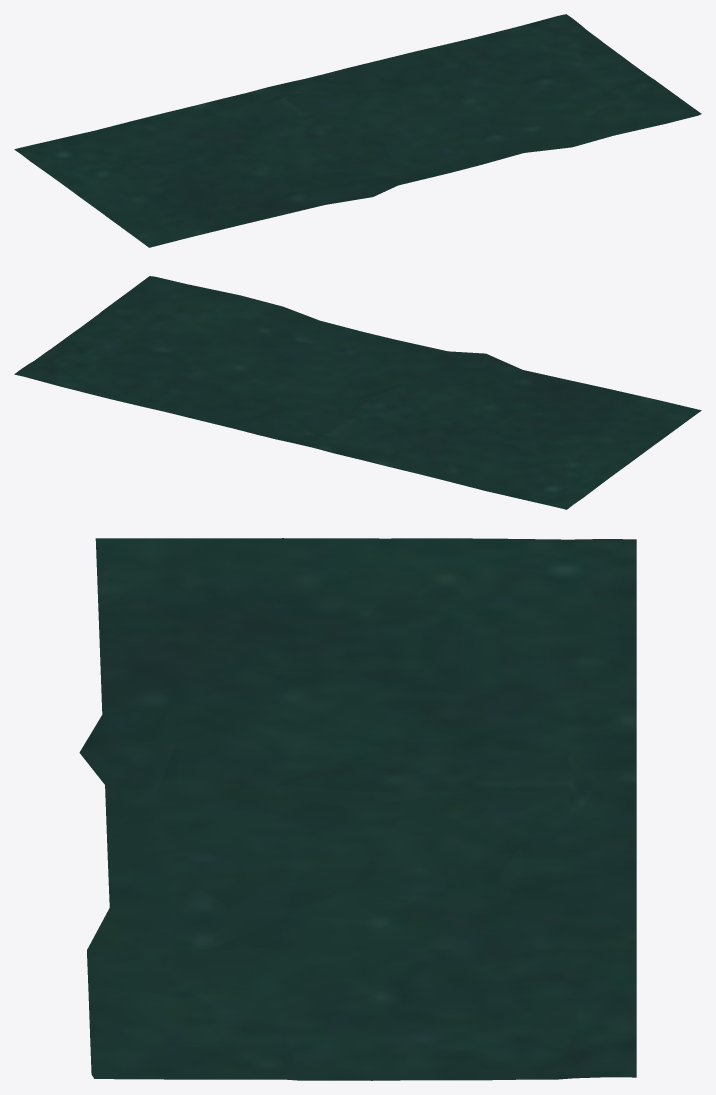
3 views of the same model, one above another, from view 1: azimuth 30°, elevation 25°; view 2: azimuth 150°, elevation 25°; view 3: azimuth 270°, elevation 25° (orthographic). The views are drawn at different scales.
Size of the model in its own units: 52.22 by 0.2696 by 22.81.
Materials: 1 (1 with a texture image).
